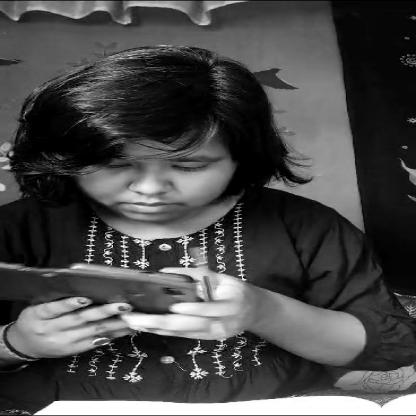Normal: (29, 66, 248, 229)
